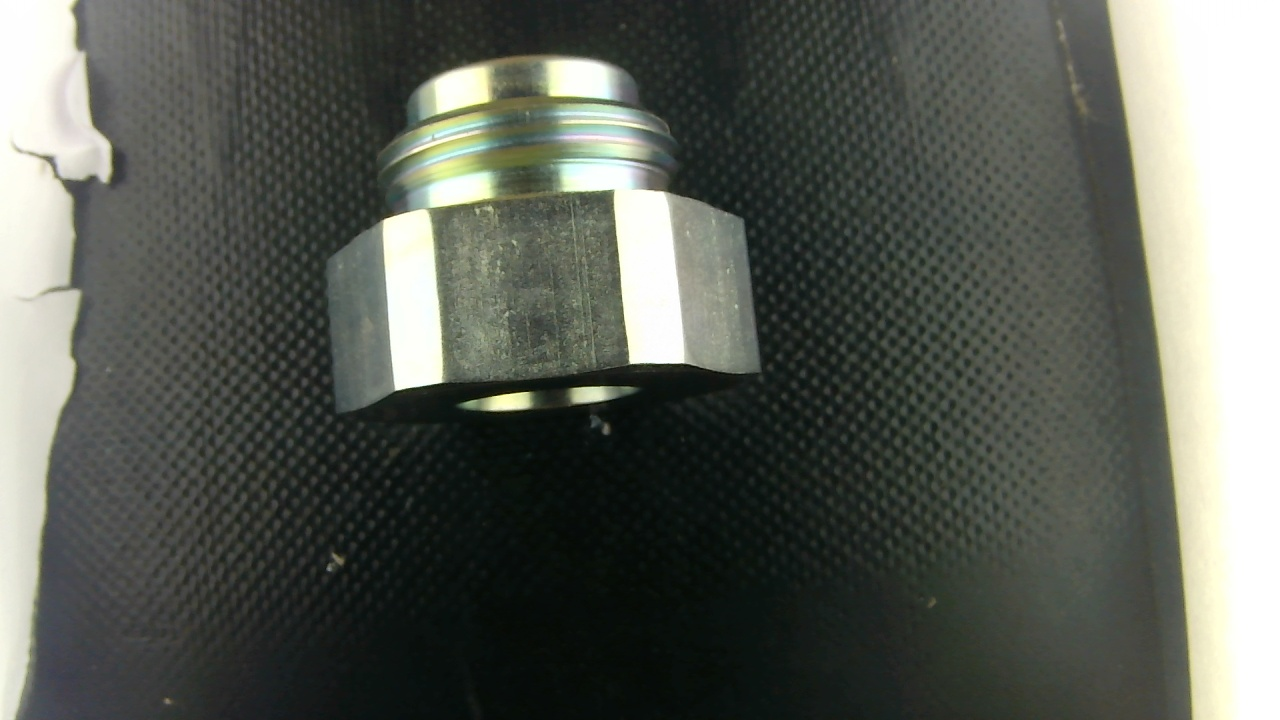Capnut_Okay: (327, 55, 760, 420)
